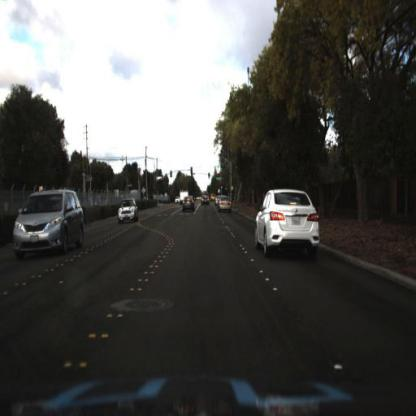car: (253, 179, 325, 265), (12, 186, 85, 264), (114, 191, 142, 225), (177, 190, 198, 214), (216, 194, 233, 212), (200, 192, 214, 208)
truck: (176, 185, 190, 204)
